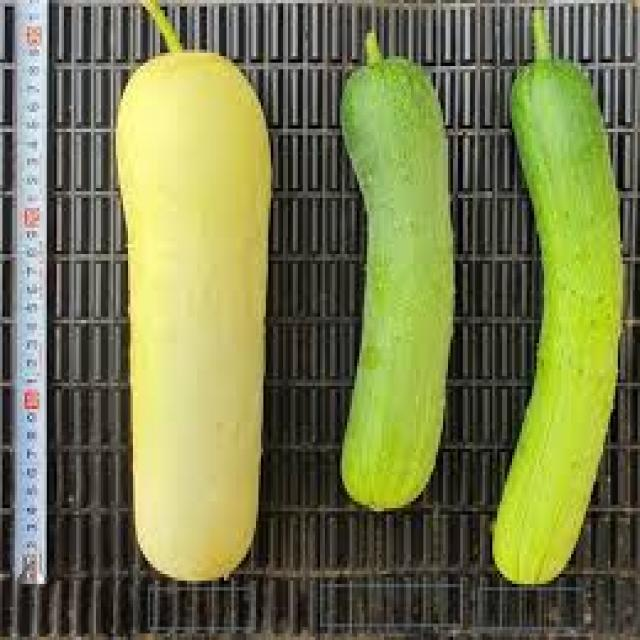Cucumber: (495, 7, 625, 586), (342, 33, 455, 510)
